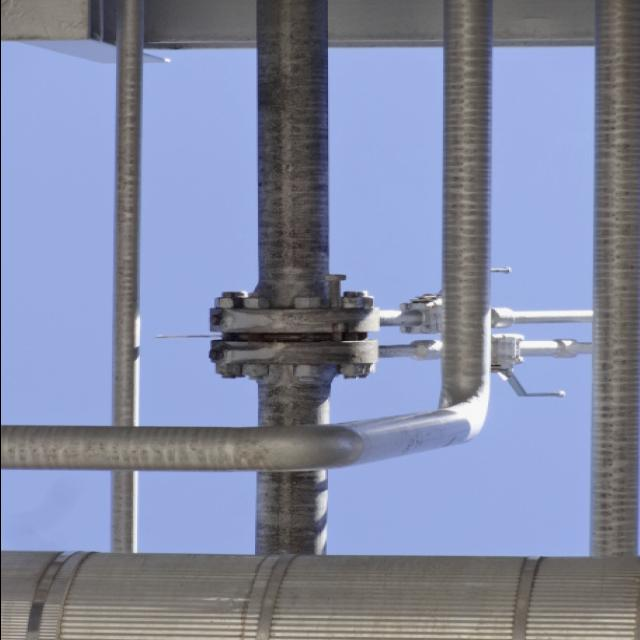gas: (247, 0, 333, 548), (586, 0, 640, 554), (442, 0, 497, 440), (97, 0, 146, 426), (0, 428, 323, 477), (108, 476, 138, 550)
